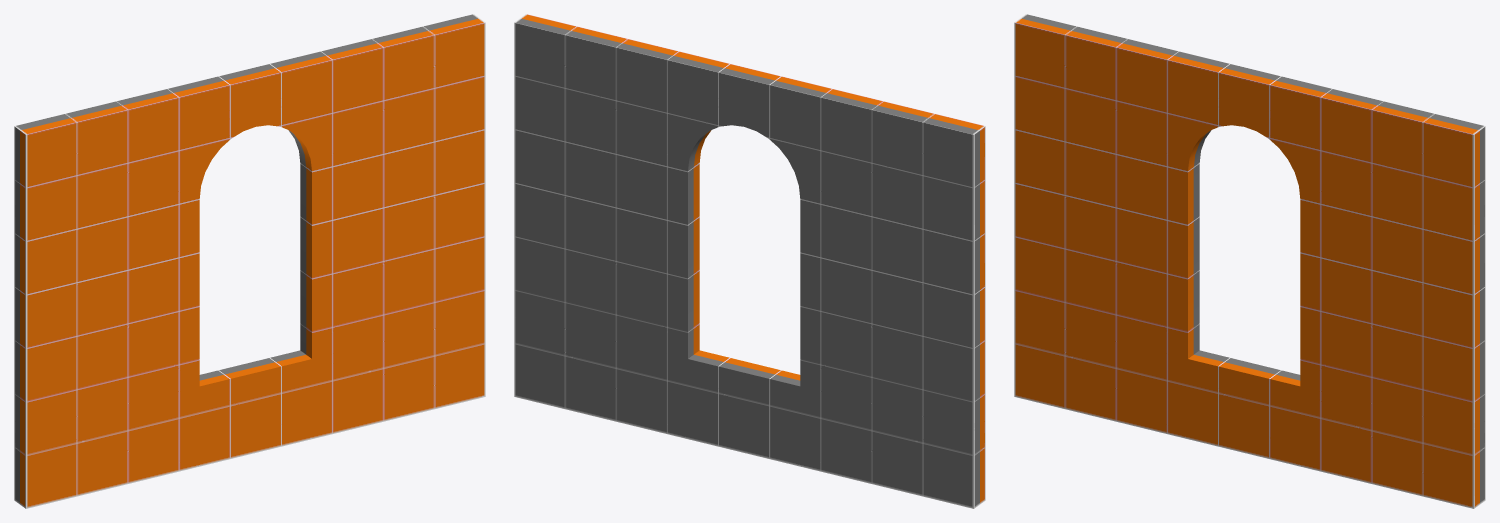
File: M01WallWindowTypeG_1.FBX
The picture shows the model from 3 angles, left to right: view 1: azimuth 30°, elevation 25°; view 2: azimuth 150°, elevation 25°; view 3: azimuth 330°, elevation 25°; orthographic projection.
Parts seen in each view (by area): view 1: M01WallWindowTypeG_1; view 2: M01WallWindowTypeG_1; view 3: M01WallWindowTypeG_1.
Part boxes in pixels (x1,y1,x2,y2): M01WallWindowTypeG_1: [14, 14, 485, 508]; M01WallWindowTypeG_1: [514, 14, 985, 508]; M01WallWindowTypeG_1: [1014, 14, 1485, 508].
Size of what is drawn, in the model's own units: 4.5 by 3.5 by 0.2.
